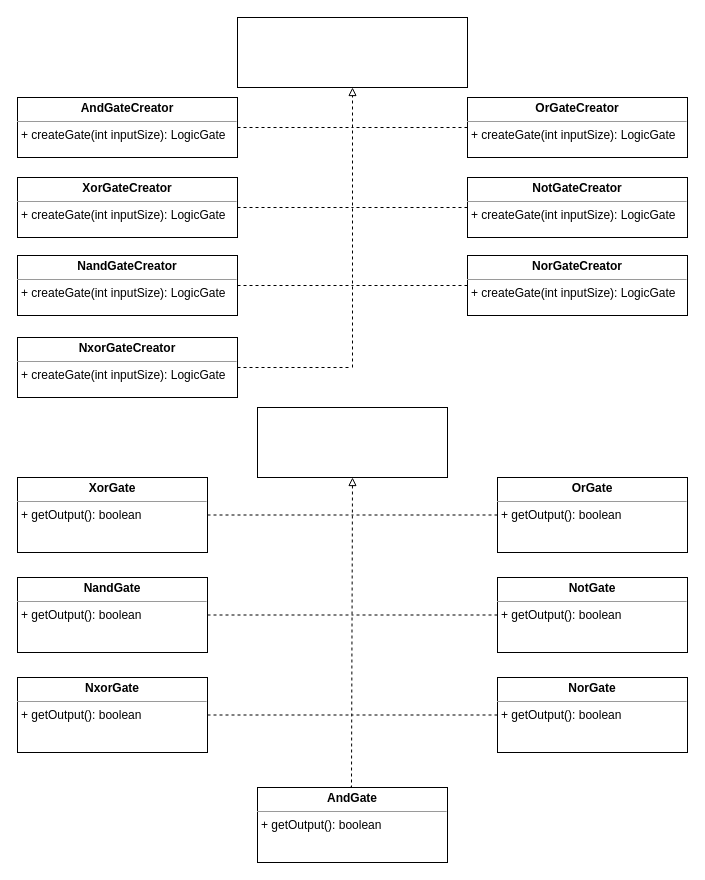
This 705x880 diagram has some shape labels left out. Each missing label, with the box of its shape:
<<Interface>> LogicGate + getOutput(): boolean: (256, 406, 448, 478)
<<Interface>> LogicGateCreator + createGate(int inputSize): LogicGate: (236, 16, 468, 88)
